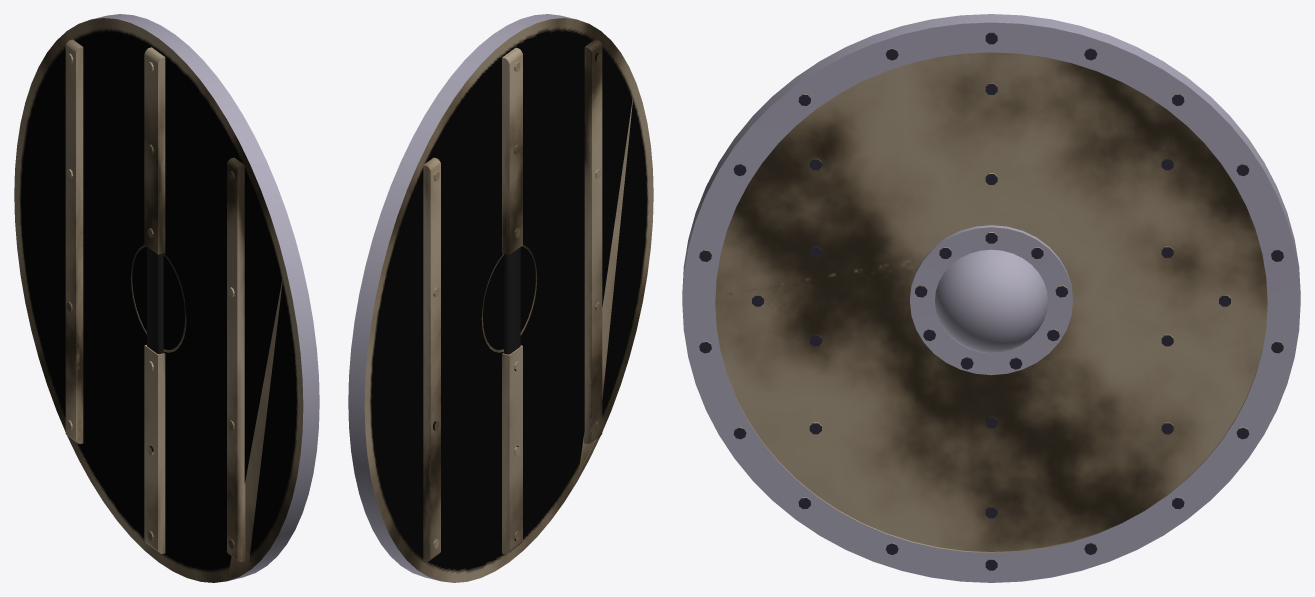
File: Щит.fbx
3 renders of one model, left to right at view 1: azimuth 30°, elevation 25°; view 2: azimuth 150°, elevation 25°; view 3: azimuth 270°, elevation 25°, orthographic. The views are drawn at different scales.
Parts seen in each view (by area): view 1: Shield; view 2: Shield; view 3: Shield.
Boxes of the visible parts, x1=… form: Shield: x1=14, y1=14, x2=319, y2=582; Shield: x1=348, y1=14, x2=653, y2=582; Shield: x1=682, y1=14, x2=1300, y2=582.
Bounding box in the file's own units: 0.0642 × 0.5196 × 0.5196.
Materials: 1 (1 with a texture image).
